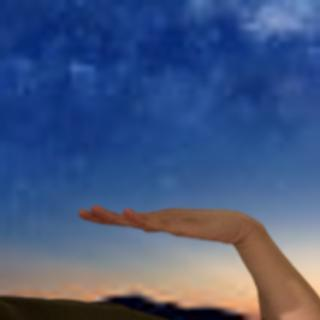WAIT: (77, 194, 256, 247)
